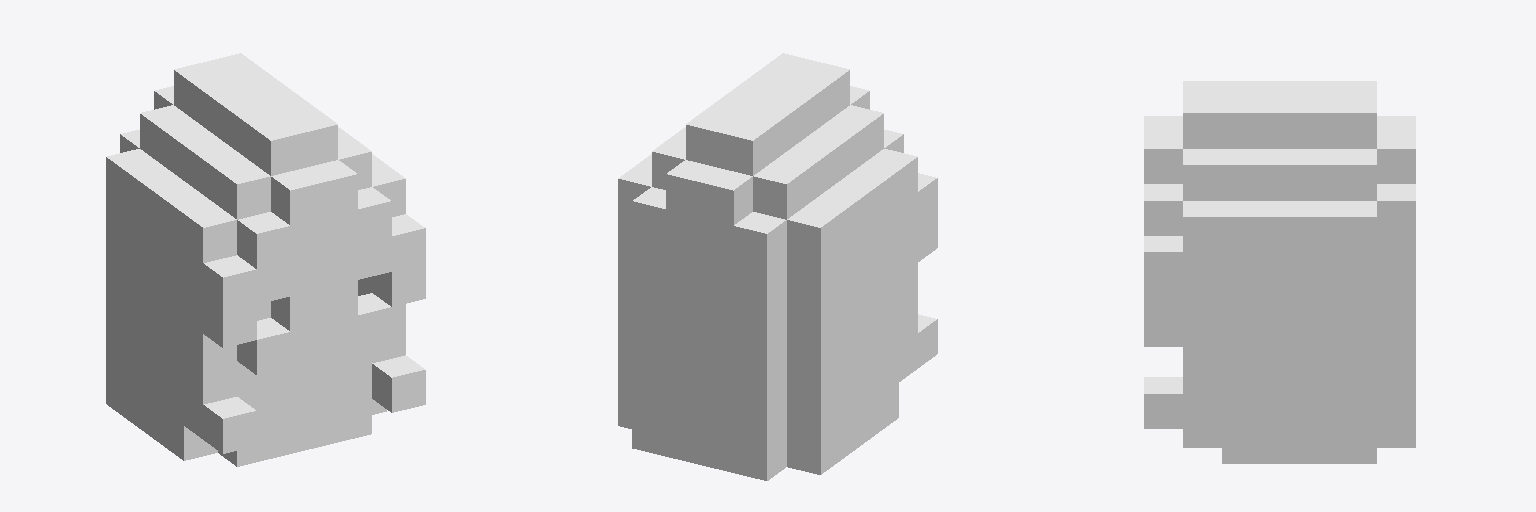
The model's file is char-201-helm_hvy_1c_ja.obj.
3 views of the same model, side by side, from view 1: azimuth 30°, elevation 25°; view 2: azimuth 150°, elevation 25°; view 3: azimuth 270°, elevation 25° (orthographic).
Parts seen in each view (by area): view 1: helm_hvy_1c_ja; view 2: helm_hvy_1c_ja; view 3: helm_hvy_1c_ja.
Part boxes in pixels (x1,y1,x2,y2): helm_hvy_1c_ja: (106,53,425,466); helm_hvy_1c_ja: (618,53,937,480); helm_hvy_1c_ja: (1144,81,1415,463).
Bounding box in the file's own units: 0.6 × 0.9 × 0.7.